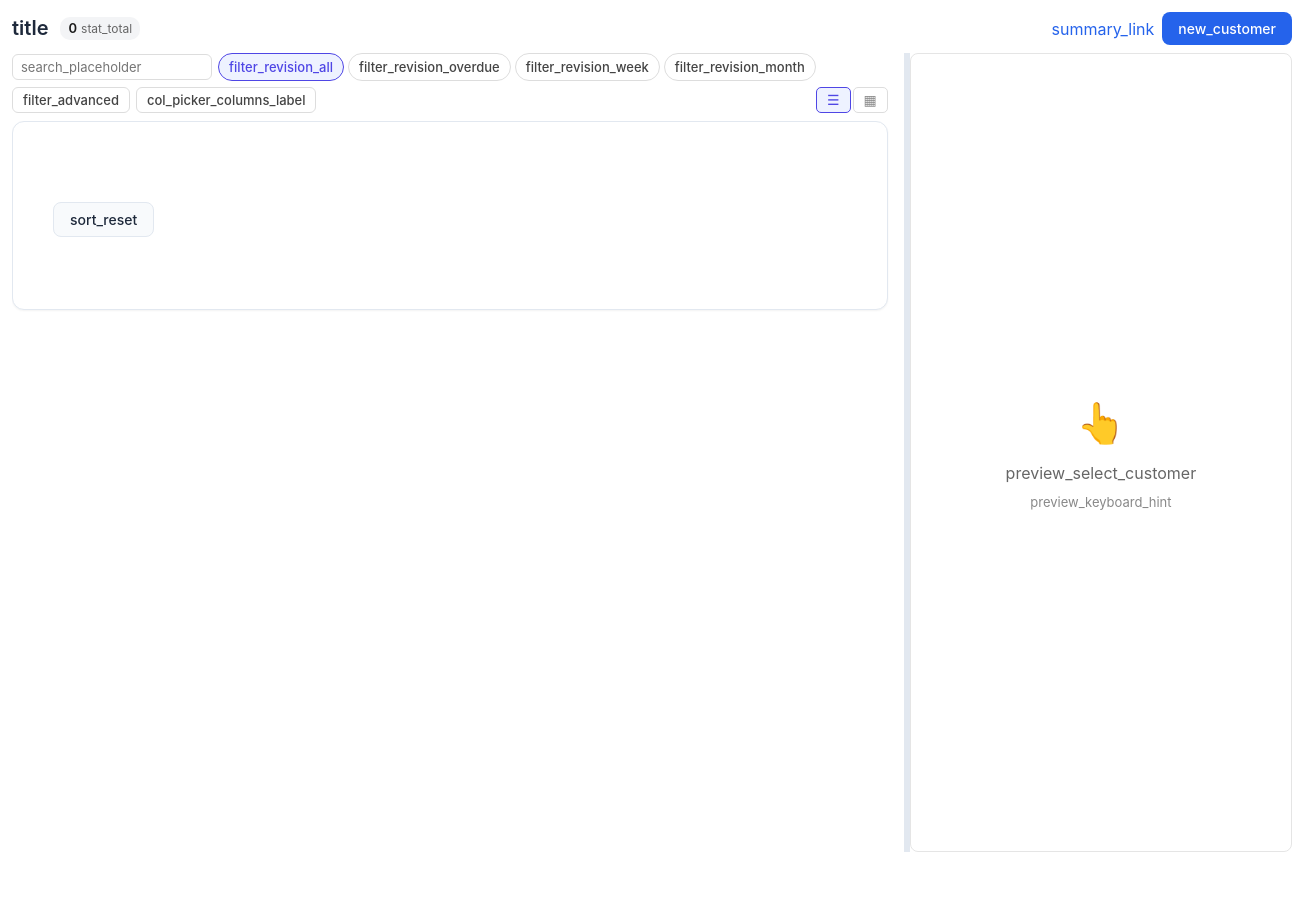
Test: Customers page — Phase 6C: empty state UX › 6C-7. Clicking "Reset sort" restores the default sort model
Click the button with test id "empty-reset-sort-btn": (104, 220) 53,202 -> 154,237
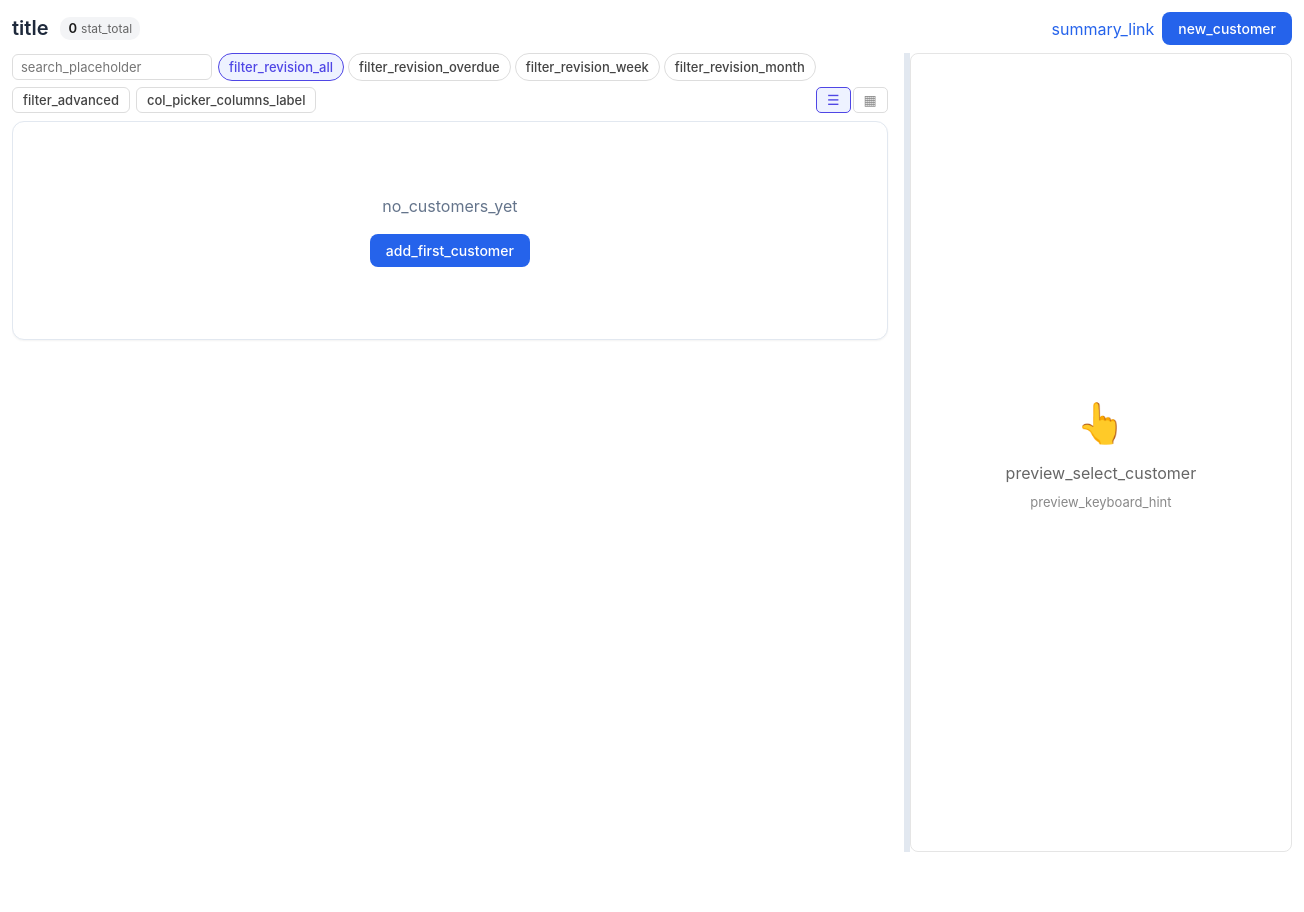
Expected: the button with test id "empty-reset-sort-btn" is gone
